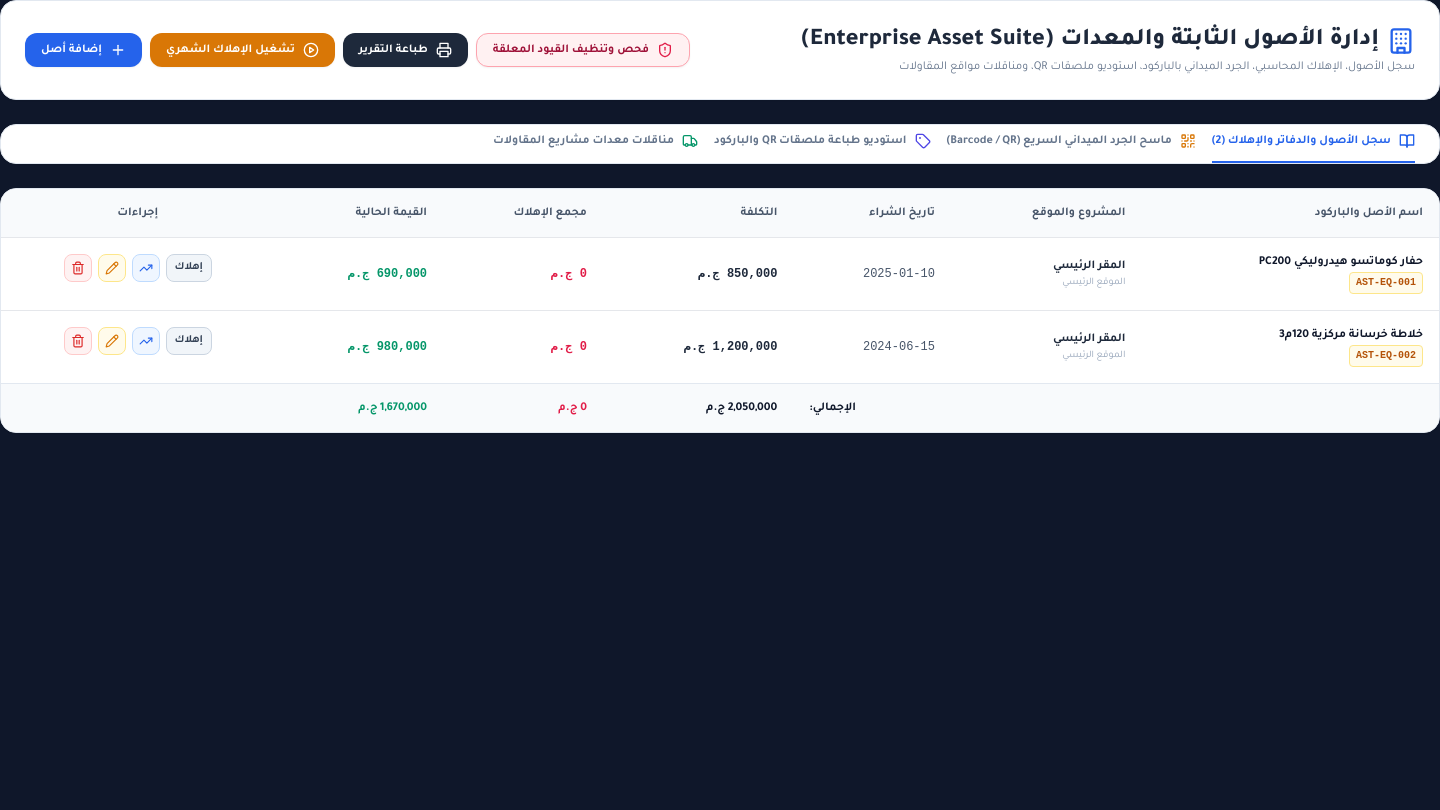
Test: 🏗️ AssetManager (Fixed Assets & Depreciation) Tests › يفتح نافذة "إضافة أصل جديد" ويعرض حقول التكلفة والعمر الإنتاجي وتعيين الحسابات المالية
This screenshot has width=1440, height=810.
Click the button "إضافة أصل": (83, 50) [25, 33, 142, 67]
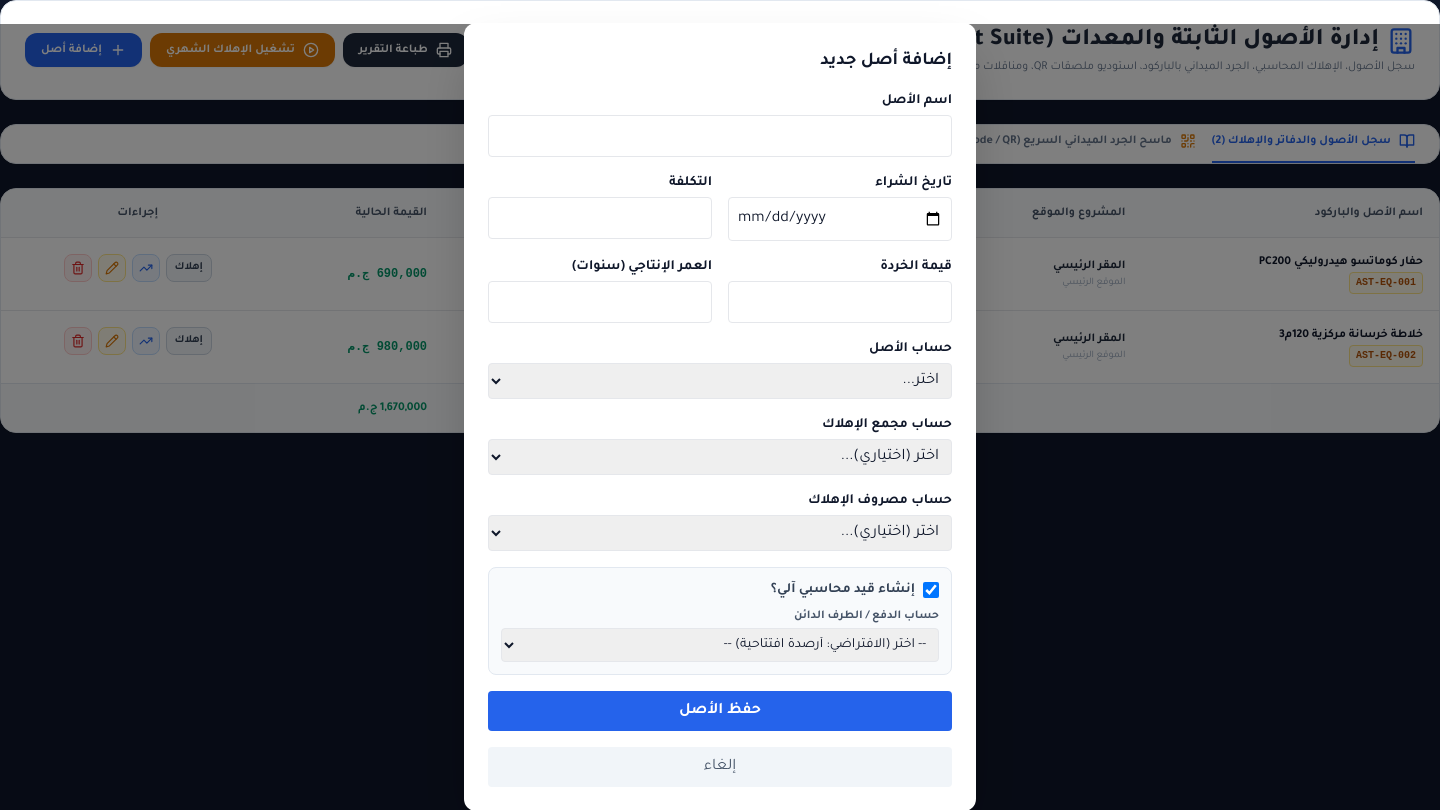
Now the heading "إضافة أصل جديد" is shown, box [820, 52, 952, 70]
Now the text "قيمة الخردة" is shown, box [880, 260, 952, 274]
Now the text "العمر الإنتاجي (سنوات)" is shown, box [572, 260, 712, 274]
